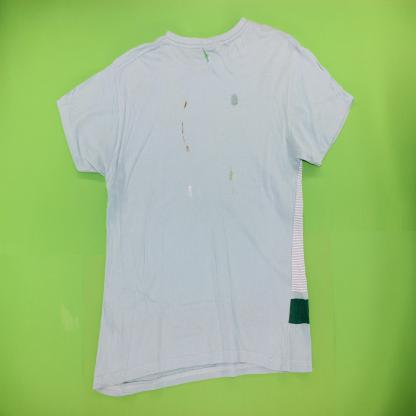hole: (200, 43, 212, 65)
stain: (181, 120, 192, 155), (228, 91, 240, 109), (228, 162, 235, 183), (187, 184, 194, 200), (182, 98, 189, 111), (231, 185, 235, 195)
